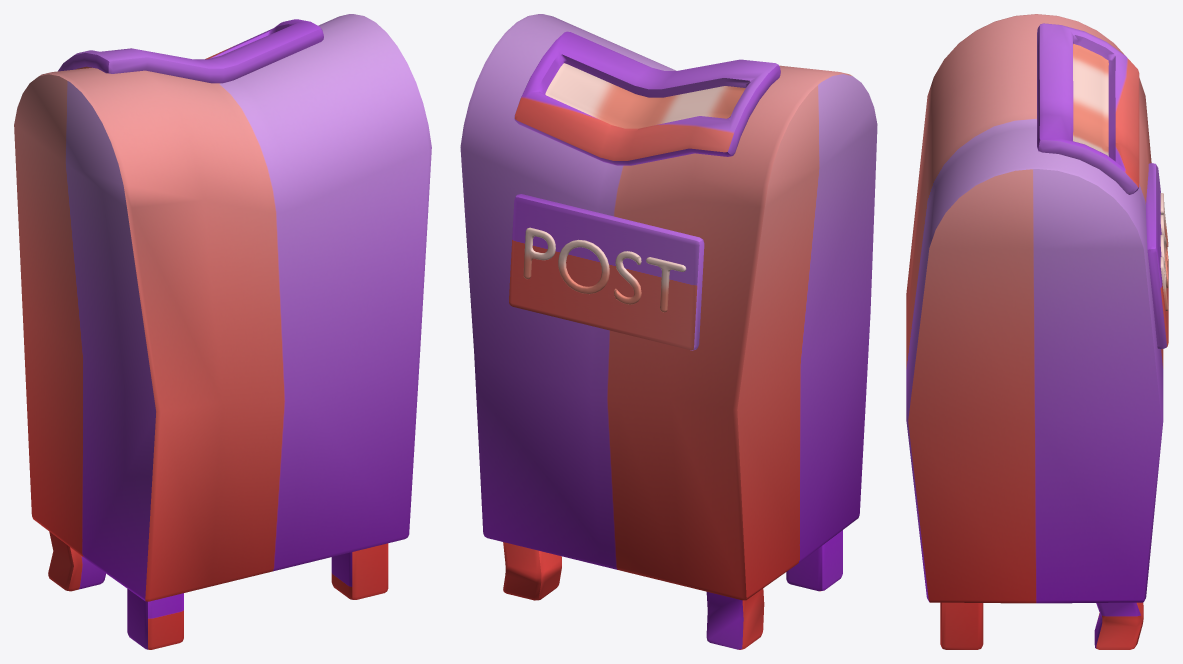
The model's file is MailboxB_red.fbx.
3 views of the same model, side by side, from view 1: azimuth 30°, elevation 25°; view 2: azimuth 150°, elevation 25°; view 3: azimuth 270°, elevation 25° (orthographic). The views are drawn at different scales.
Parts seen in each view (by area): view 1: MailboxB_base.003, MailboxB_stands.003, MailboxB_detail.003; view 2: MailboxB_base.003, MailboxB_detail.003, MailboxB_stands.003; view 3: MailboxB_base.003, MailboxB_detail.003, MailboxB_stands.003.
Part boxes in pixels (x1=…): MailboxB_base.003: x1=14, y1=14, x2=431, y2=601; MailboxB_stands.003: x1=48, y1=531, x2=388, y2=649; MailboxB_detail.003: x1=58, y1=19, x2=323, y2=83; MailboxB_base.003: x1=460, y1=14, x2=877, y2=600; MailboxB_detail.003: x1=509, y1=31, x2=780, y2=350; MailboxB_stands.003: x1=503, y1=530, x2=842, y2=649; MailboxB_base.003: x1=906, y1=14, x2=1163, y2=603; MailboxB_detail.003: x1=1037, y1=23, x2=1168, y2=349; MailboxB_stands.003: x1=940, y1=602, x2=1143, y2=649.
Bounding box in the file's own units: 137 × 235 × 107.
